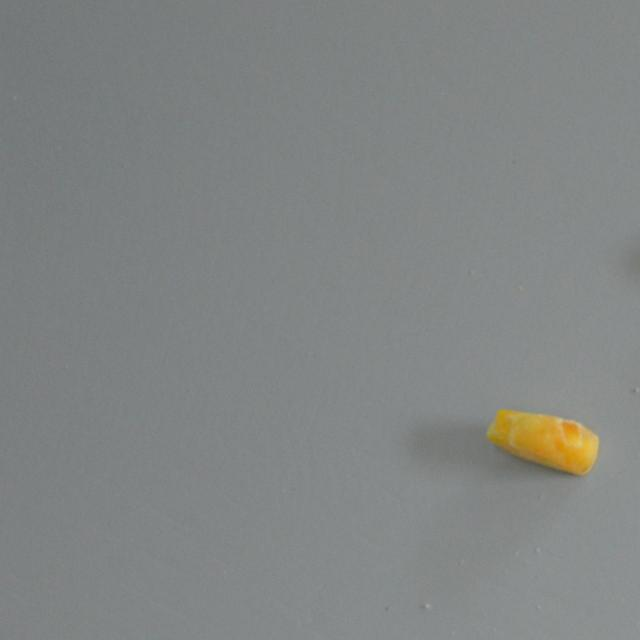pelicula: (484, 400, 601, 478)
